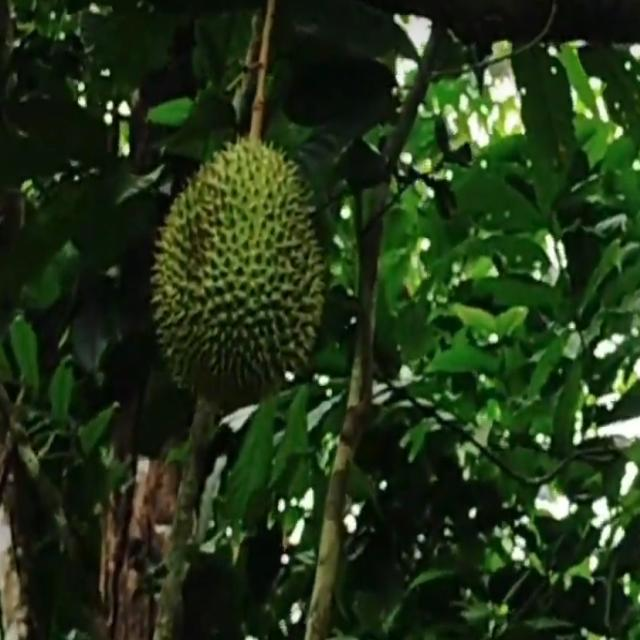immature: (153, 131, 330, 408)
